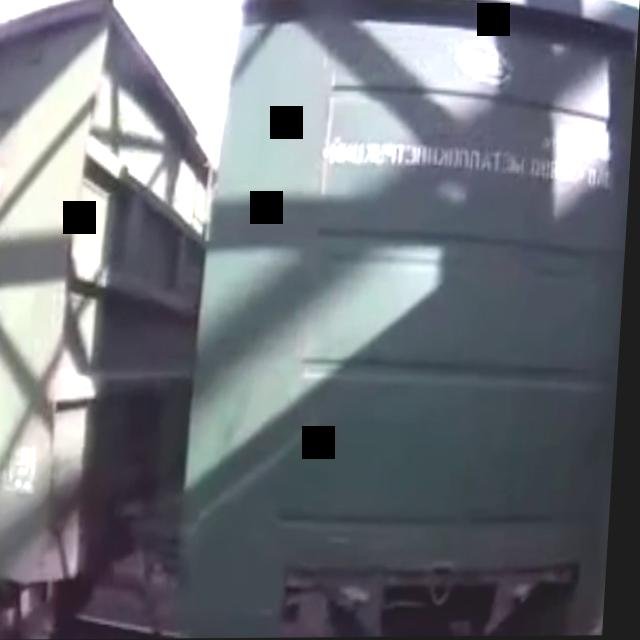gondola: (178, 0, 640, 639), (0, 0, 218, 640)
